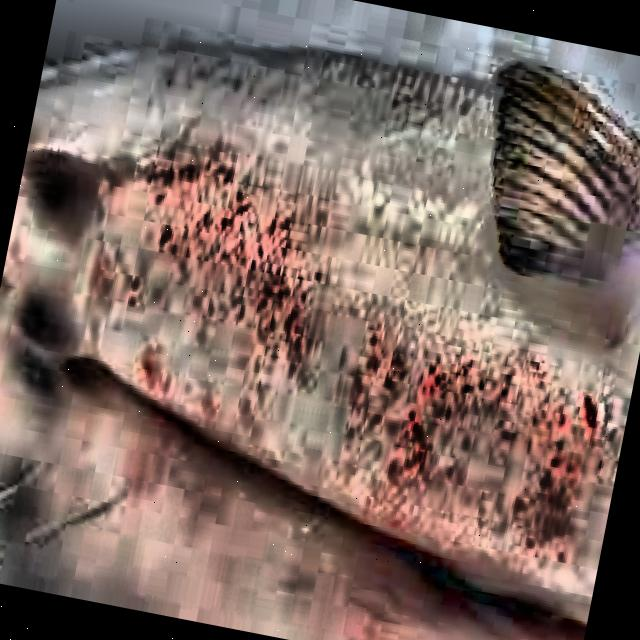mild_red: (3, 48, 640, 615)
